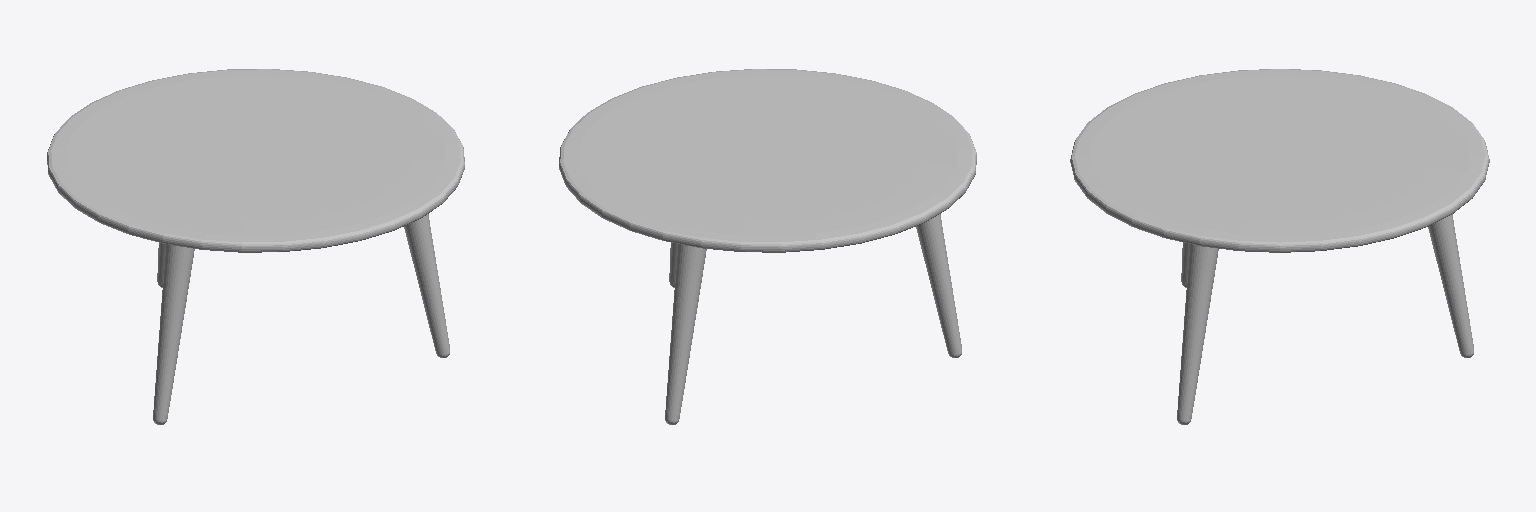
3 renders of one model, left to right at view 1: azimuth 30°, elevation 25°; view 2: azimuth 150°, elevation 25°; view 3: azimuth 270°, elevation 25°, orthographic.
Parts seen in each view (by area): view 1: CoffeeTable; view 2: CoffeeTable; view 3: CoffeeTable.
Part boxes in pixels (left/top/right/bottom): CoffeeTable: left=47, top=69, right=464, bottom=424; CoffeeTable: left=559, top=69, right=976, bottom=424; CoffeeTable: left=1070, top=69, right=1489, bottom=424.
Bounding box in the file's own units: 0.7558 × 0.4007 × 0.7558.